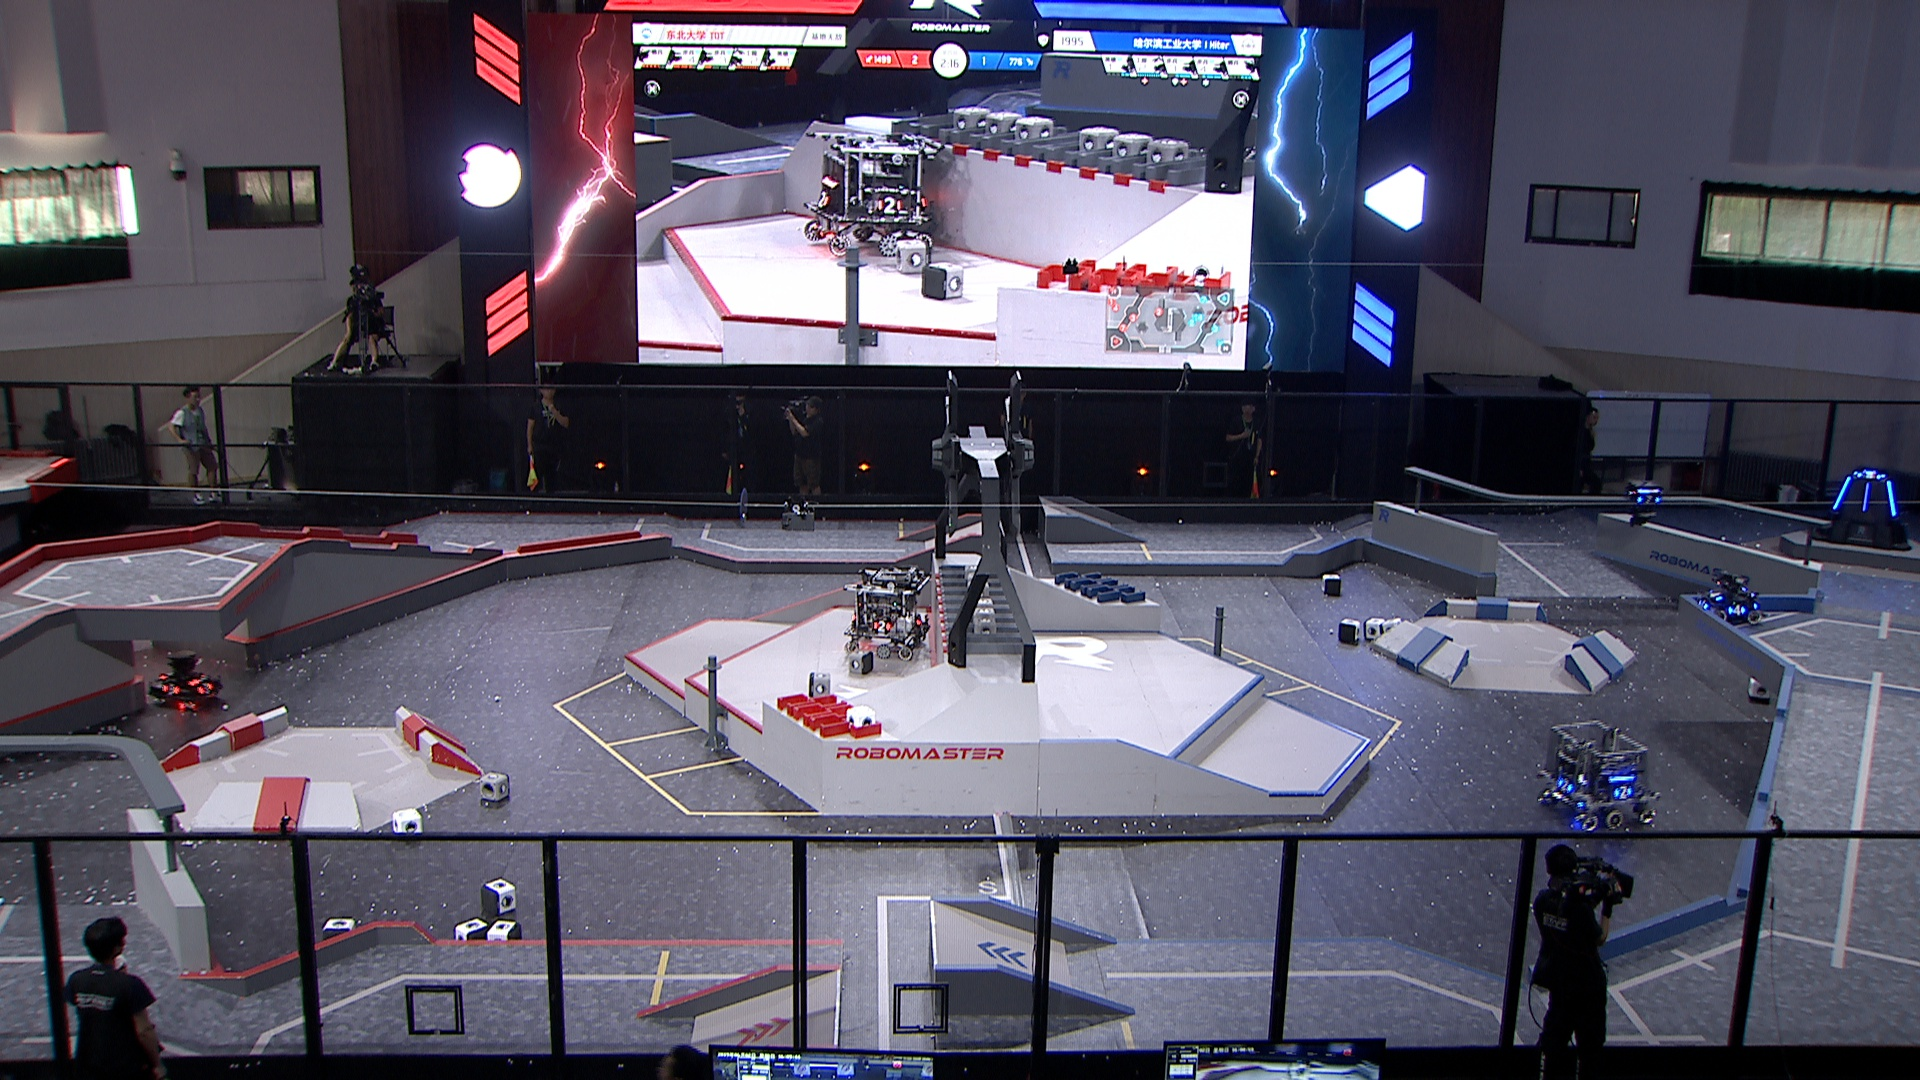armor: (1830, 475, 1851, 512), (1884, 479, 1902, 520), (1859, 481, 1871, 514), (158, 683, 183, 698), (1854, 469, 1883, 481), (1613, 785, 1633, 802), (1636, 495, 1664, 506), (870, 618, 893, 633), (196, 680, 215, 698), (1556, 778, 1575, 793), (1727, 604, 1747, 617), (1706, 589, 1724, 603), (1695, 599, 1709, 612)
base: (1812, 467, 1913, 553)
car: (1536, 719, 1658, 835), (843, 564, 930, 659), (145, 647, 220, 709), (1693, 571, 1764, 626)
ignore: (807, 124, 939, 262)
watcher: (1623, 476, 1665, 527)
